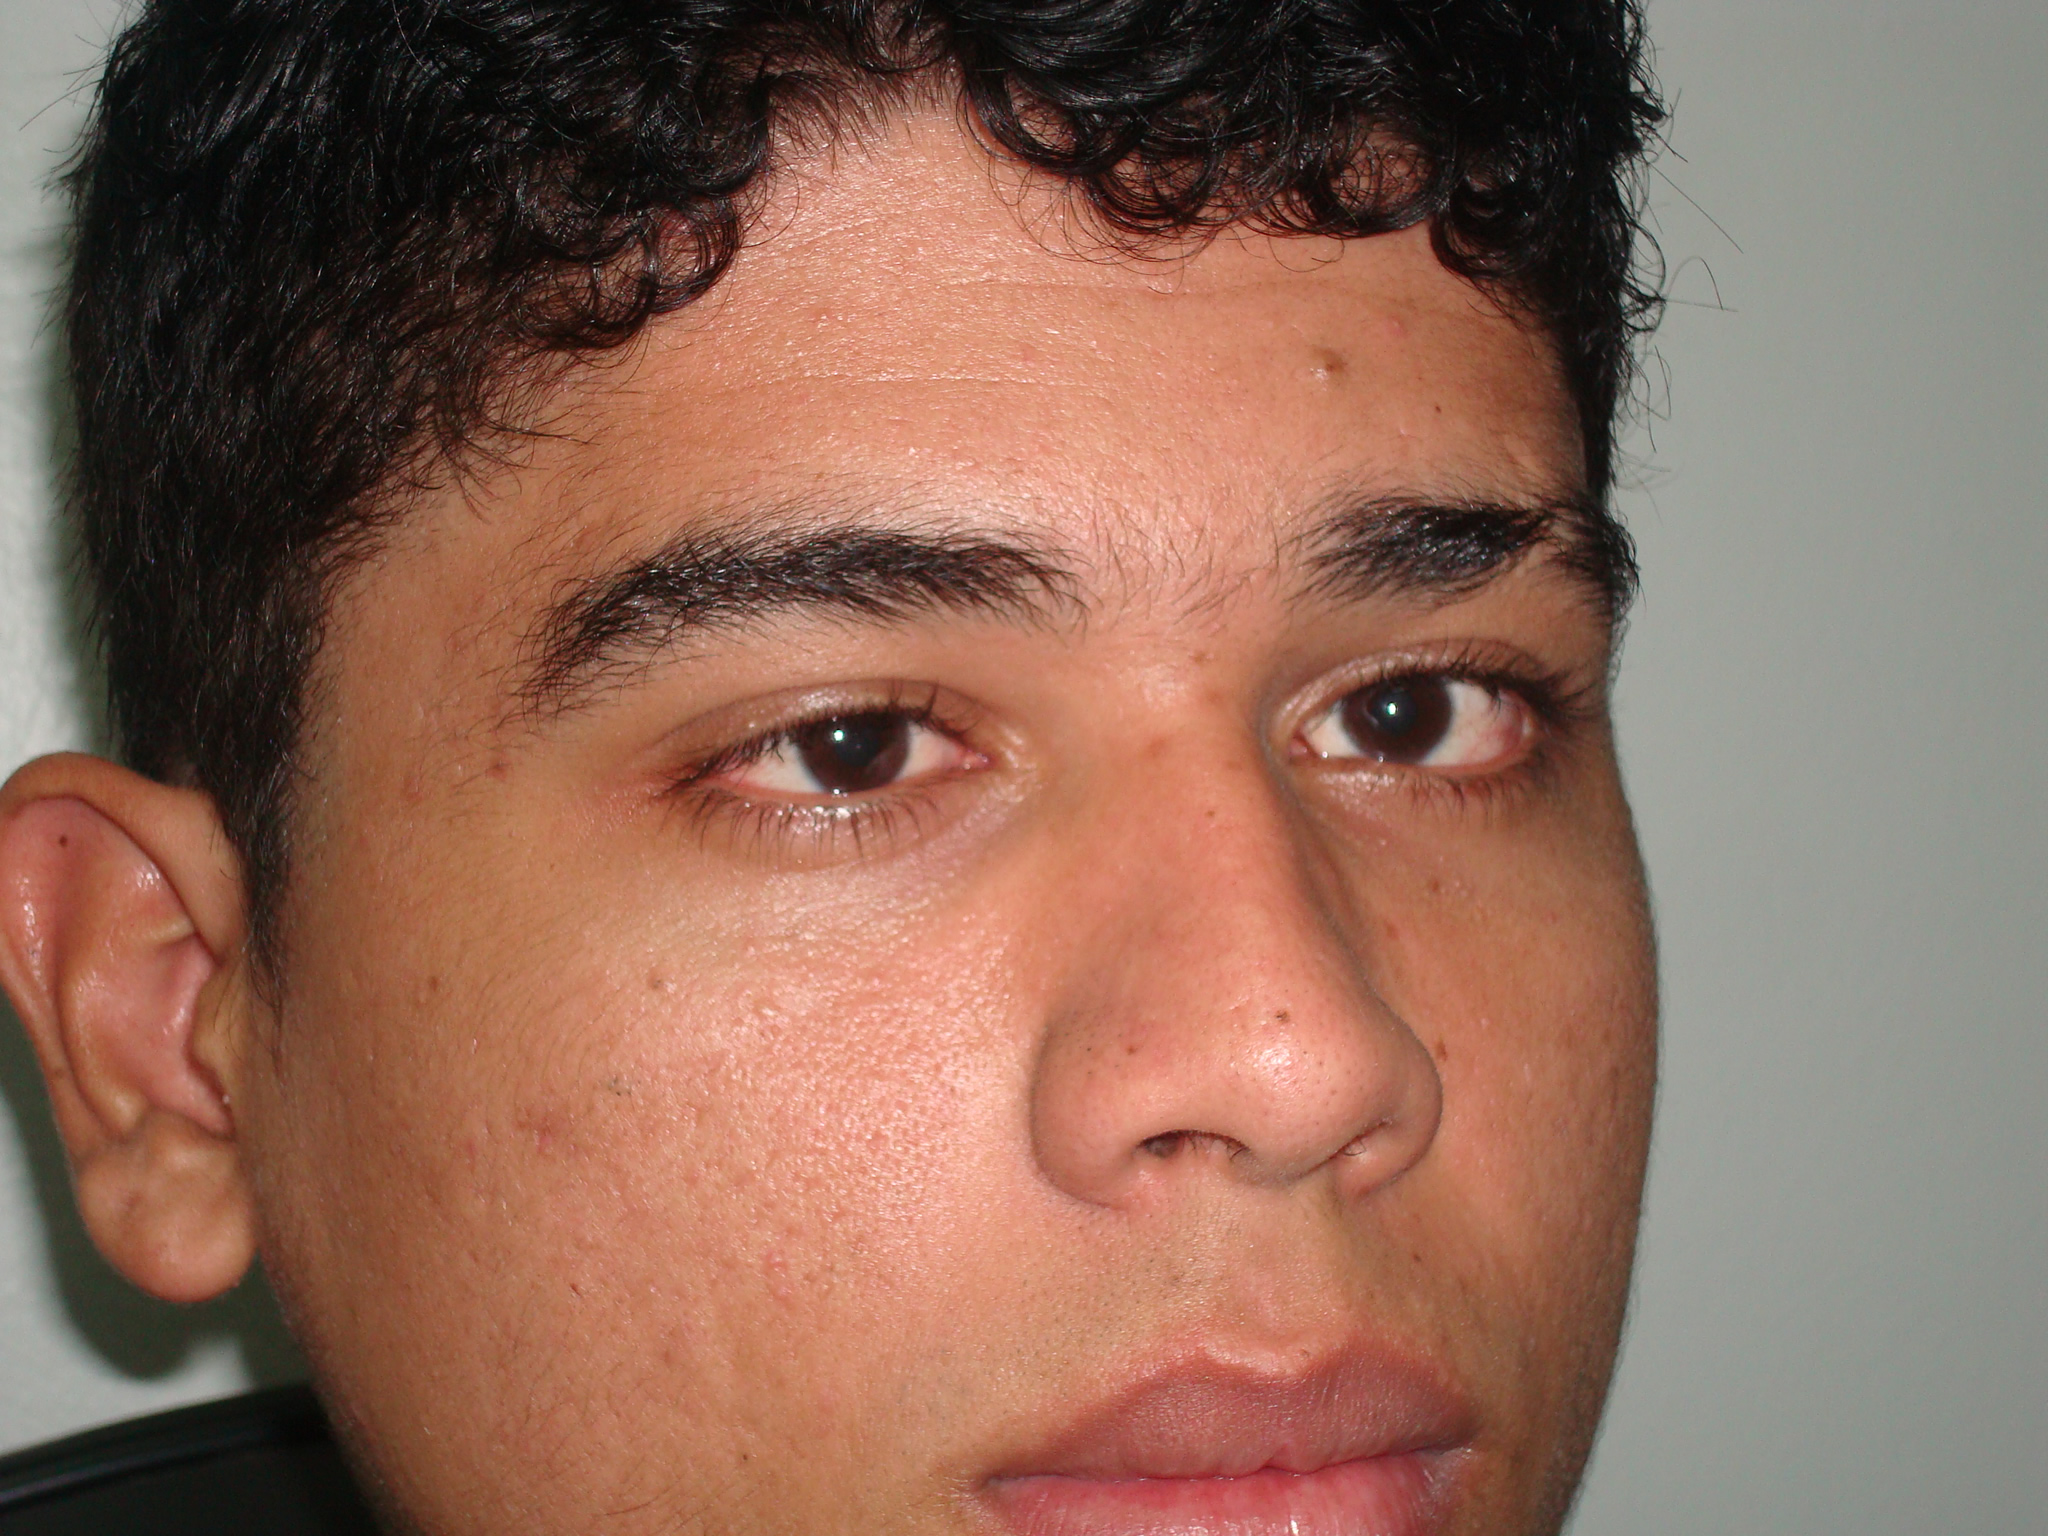flash: (1382, 695, 1403, 720), (829, 724, 848, 744)
limbo: (1342, 658, 1450, 765), (797, 691, 908, 791)
